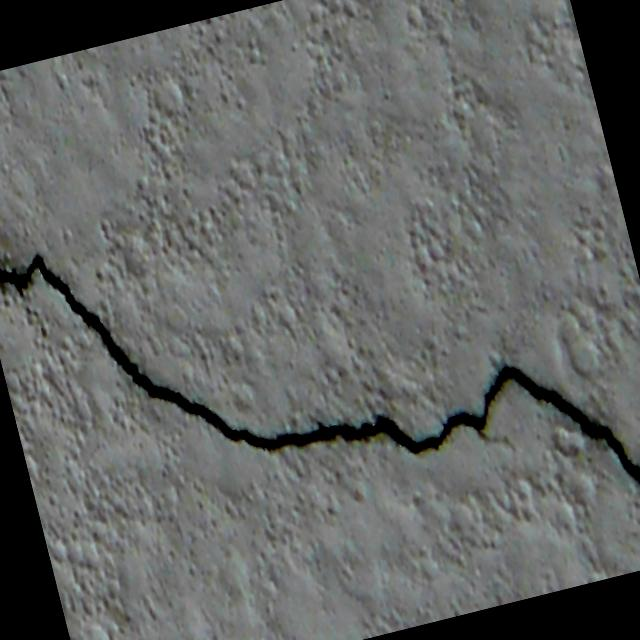crack: (182, 244, 640, 640), (0, 210, 197, 466)
